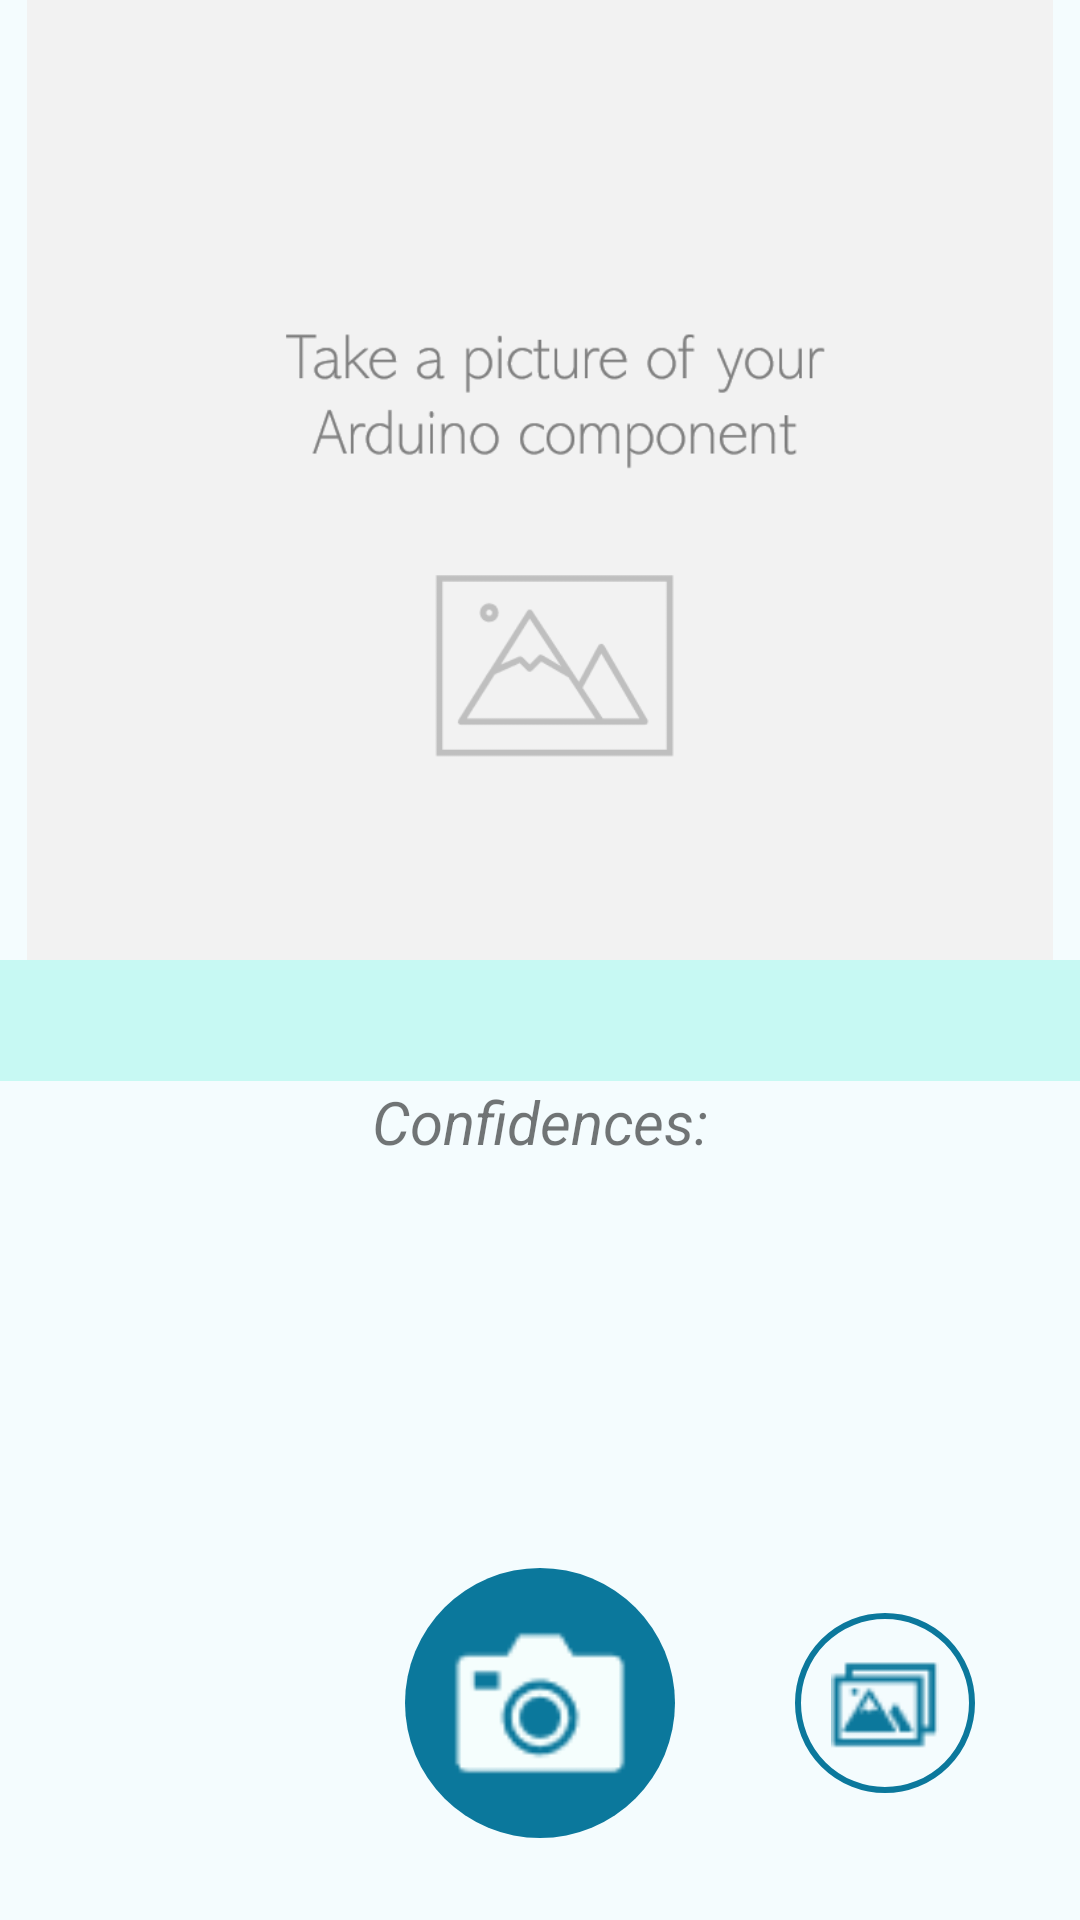

Icons on this 1080*1920 Android screen, each with its box as region(x1, y1, x2, y2):
ia appareil photo: region(405, 1568, 675, 1838)
ia gallerie: region(795, 1613, 975, 1793)
